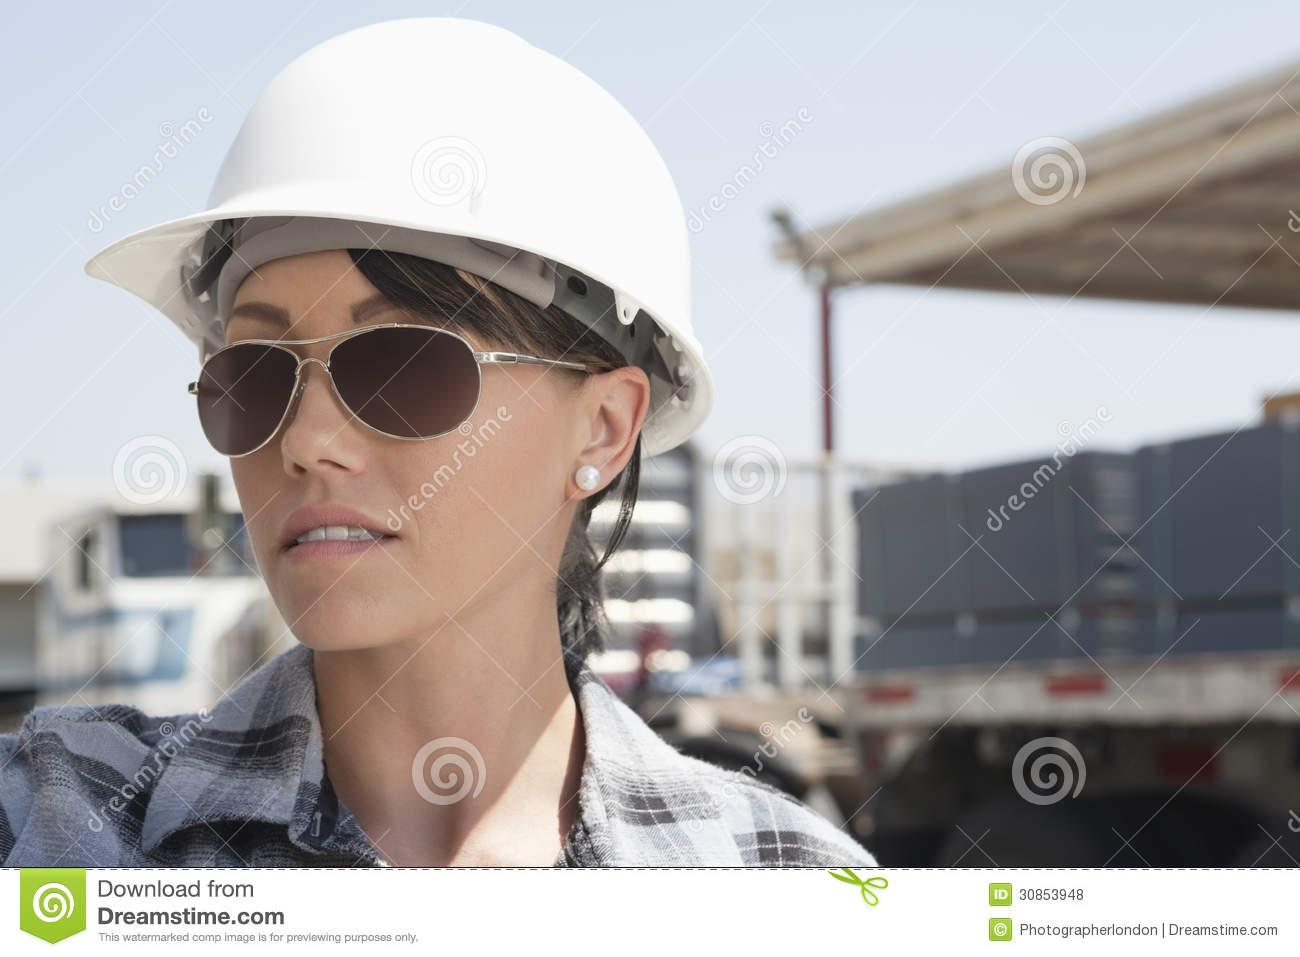helmet: (96, 20, 717, 450)
